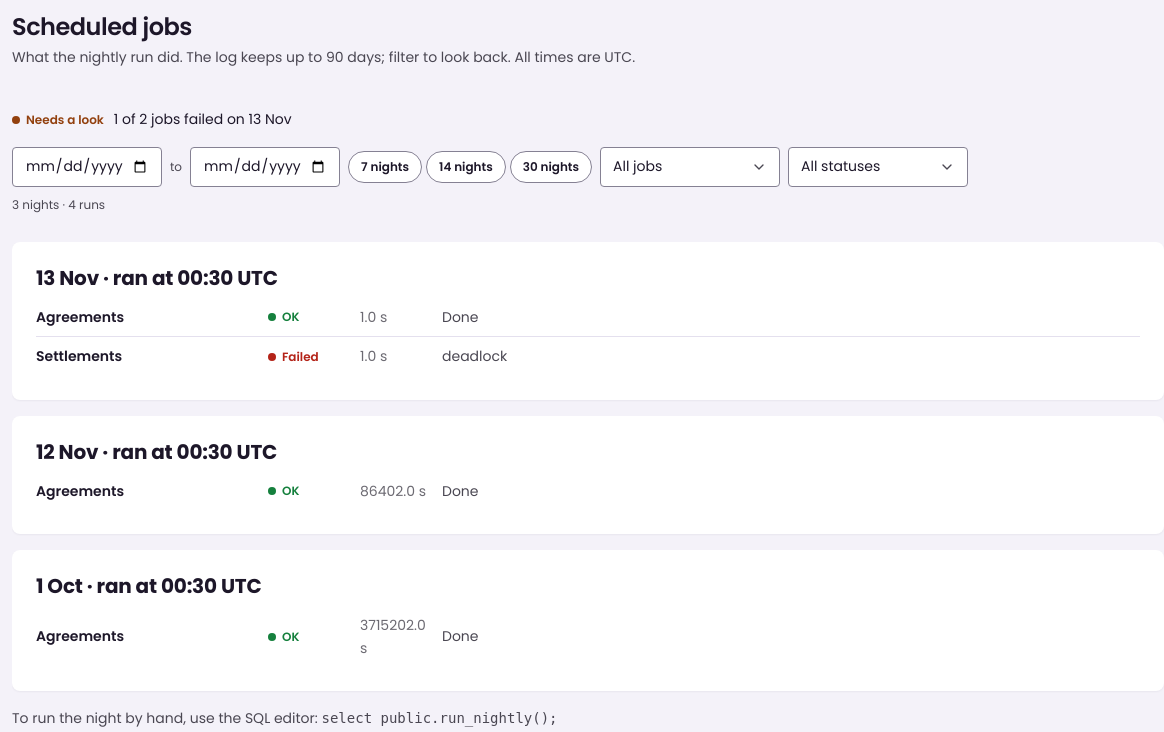
Scenario: OperatorJobs › filters › shows nights and runs in range, and the old night after widening
Expected: the text "3 nights · 4 runs" is shown, top-left (12, 196), bottom-right (105, 213)
Type "2026-11-12" into the date field named "From" at [87, 167], box top-left (12, 147), bottom-right (162, 187)
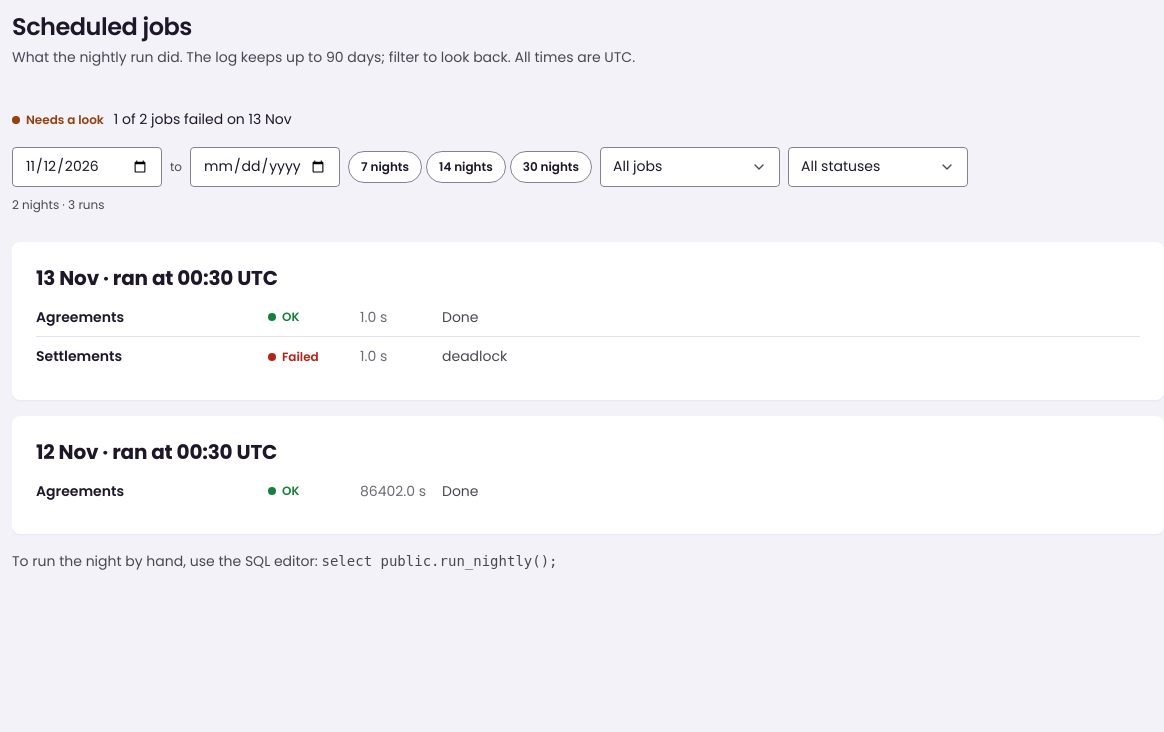
Expected: the text "2 nights · 3 runs" is shown, top-left (12, 196), bottom-right (104, 213)
